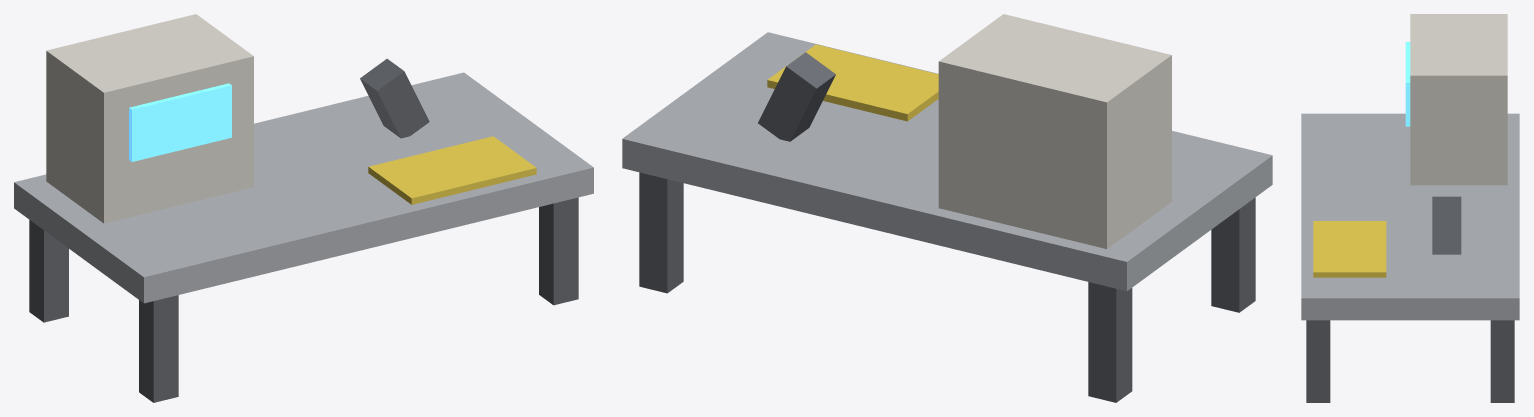
File: FabBench.glb
The picture shows the model from 3 angles, left to right: view 1: azimuth 30°, elevation 25°; view 2: azimuth 150°, elevation 25°; view 3: azimuth 270°, elevation 25°; orthographic projection. The views are drawn at different scales.
Visible parts, largest first — view 1: FabBench; view 2: FabBench; view 3: FabBench.
Boxes of the visible parts, x1,y1,x2,y2 form: FabBench: [14, 14, 593, 402]; FabBench: [622, 14, 1272, 402]; FabBench: [1301, 14, 1519, 402].
Bounding box in the file's own units: 1.8 × 1 × 0.9.
